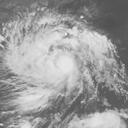cyclone: (4, 25, 116, 112)
